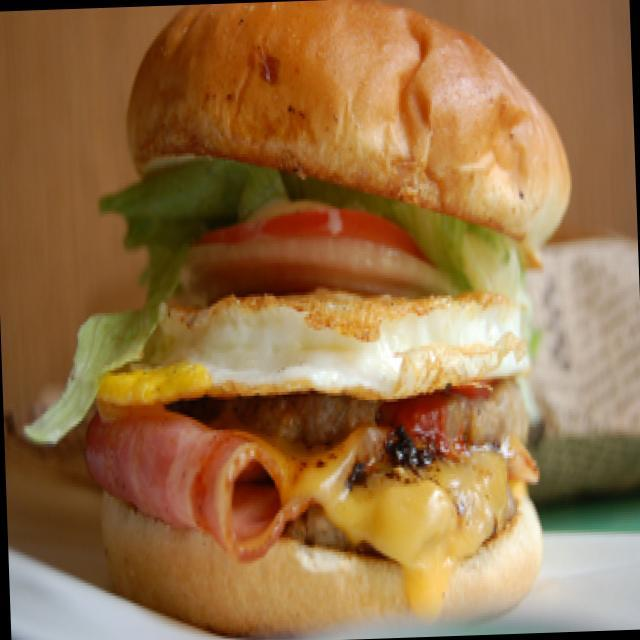Hamburger: (80, 0, 590, 640)
